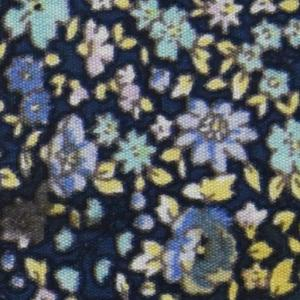Stain: (142, 212, 300, 300), (1, 178, 113, 251)
